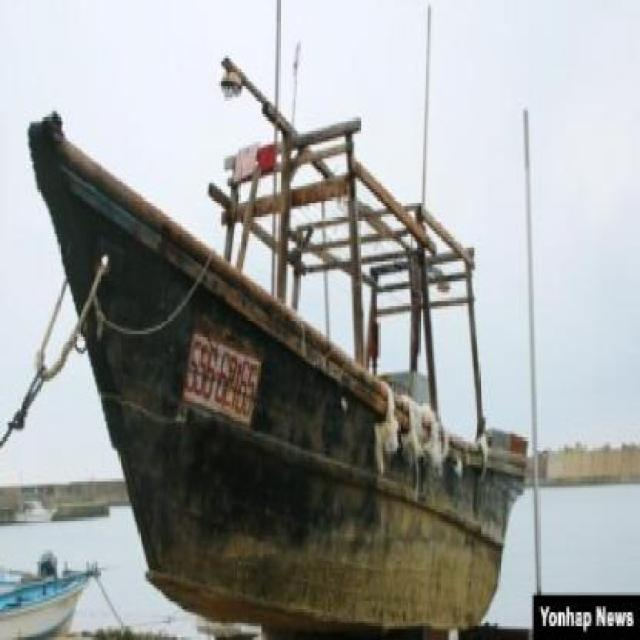fish-b: (22, 1, 535, 638)
